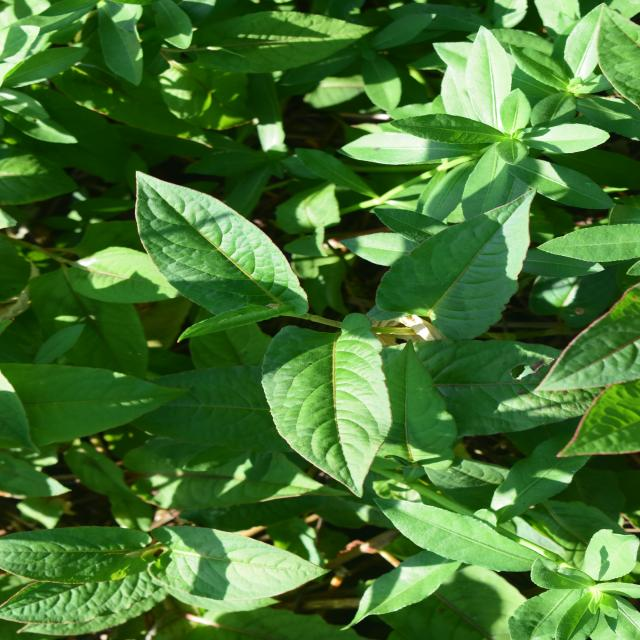Chinese_knotweed: (168, 124, 468, 540)
